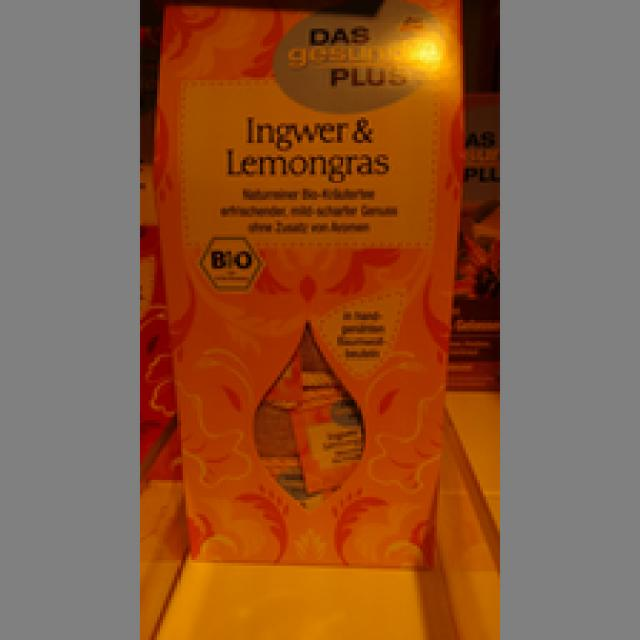groceries: (146, 0, 463, 569)
